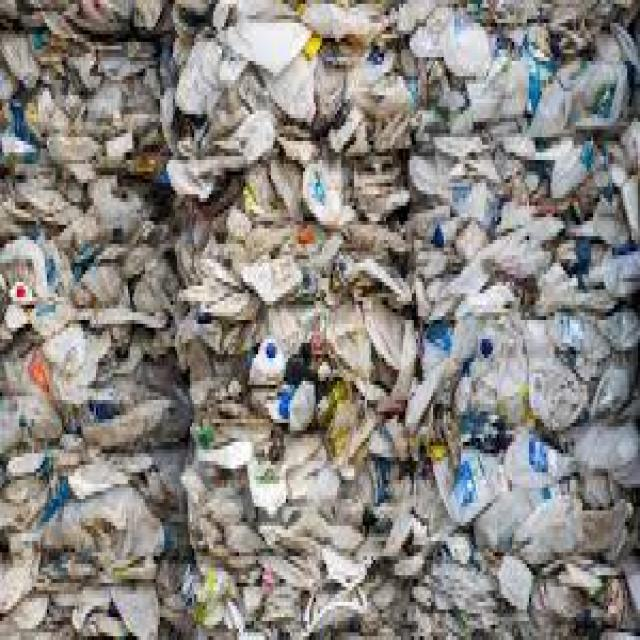plastic: (31, 39, 630, 607)
plastic_bottle: (229, 304, 297, 407)
